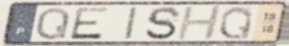E: (68, 6, 111, 41)
H: (175, 4, 224, 42)
I: (123, 6, 140, 41)
Q: (217, 5, 256, 41), (33, 6, 72, 41)
S: (144, 5, 184, 41)
